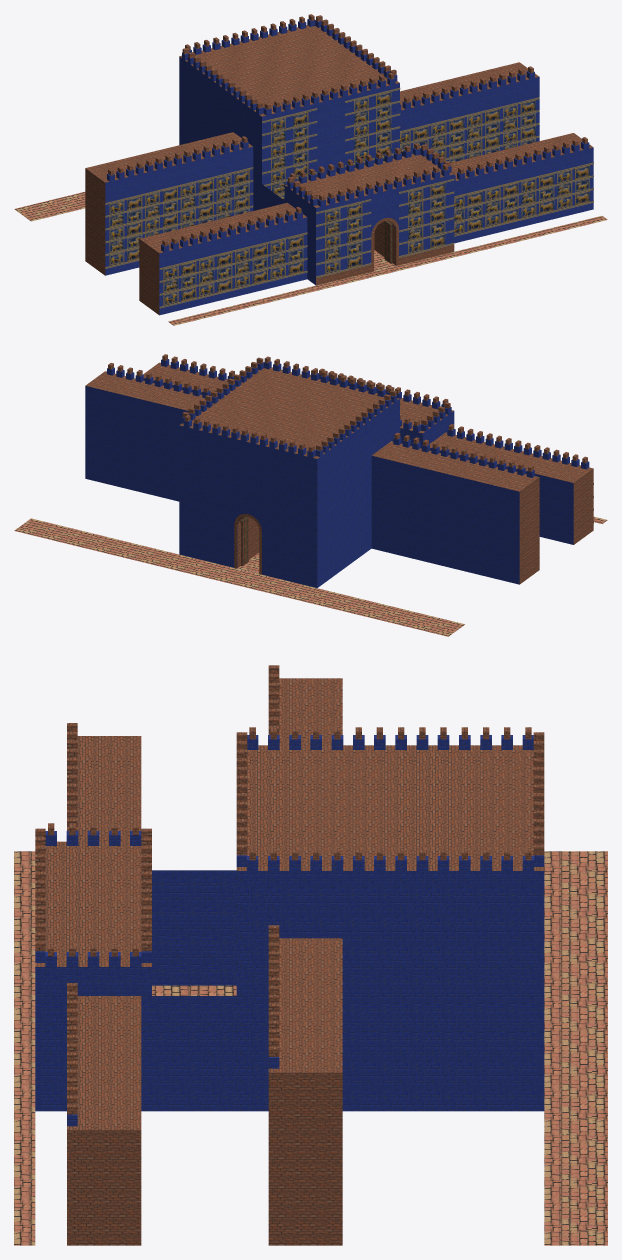
The model's file is ishtar_gate.glb.
3 renders of one model, top to bottom at view 1: azimuth 30°, elevation 25°; view 2: azimuth 150°, elevation 25°; view 3: azimuth 270°, elevation 25°, orthographic. The views are drawn at different scales.
Parts seen in each view (by area): view 1: ishtar_gate; view 2: ishtar_gate; view 3: ishtar_gate.
Part boxes in pixels (x1,y1,x2,y2): ishtar_gate: [14, 14, 607, 325]; ishtar_gate: [14, 354, 607, 636]; ishtar_gate: [14, 665, 607, 1245].
Size of the model in its own units: 88 by 26.9 by 56.
9 materials, 9 textured.
